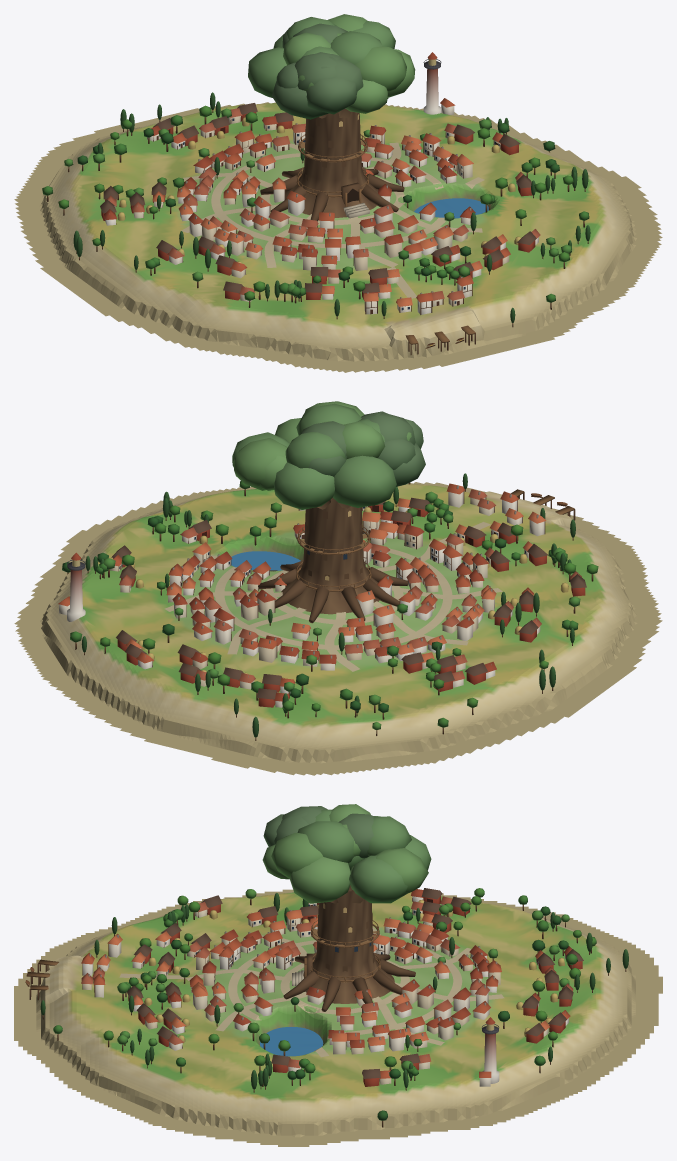
3 renders of one model, top to bottom at view 1: azimuth 30°, elevation 25°; view 2: azimuth 150°, elevation 25°; view 3: azimuth 270°, elevation 25°, orthographic. The views are drawn at different scales.
Parts seen in each view (by area): view 1: BASE, VILLE_3, VILLE_2, VILLE_4; view 2: BASE, VILLE_3, VILLE_2, VILLE_4; view 3: BASE, VILLE_3, VILLE_2, VILLE_4.
Boxes of the visible parts, x1,y1,x2,y2 form: BASE: (14, 14, 662, 372); VILLE_3: (100, 103, 540, 301); VILLE_2: (177, 123, 475, 270); VILLE_4: (423, 52, 455, 114); BASE: (14, 401, 662, 775); VILLE_3: (110, 497, 586, 707); VILLE_2: (166, 512, 496, 670); VILLE_4: (58, 552, 85, 621); BASE: (14, 804, 662, 1146); VILLE_3: (127, 888, 583, 1086); VILLE_2: (189, 910, 501, 1054); VILLE_4: (479, 1017, 499, 1086).
Bounding box in the file's own units: 68 × 24.36 × 72.5.
